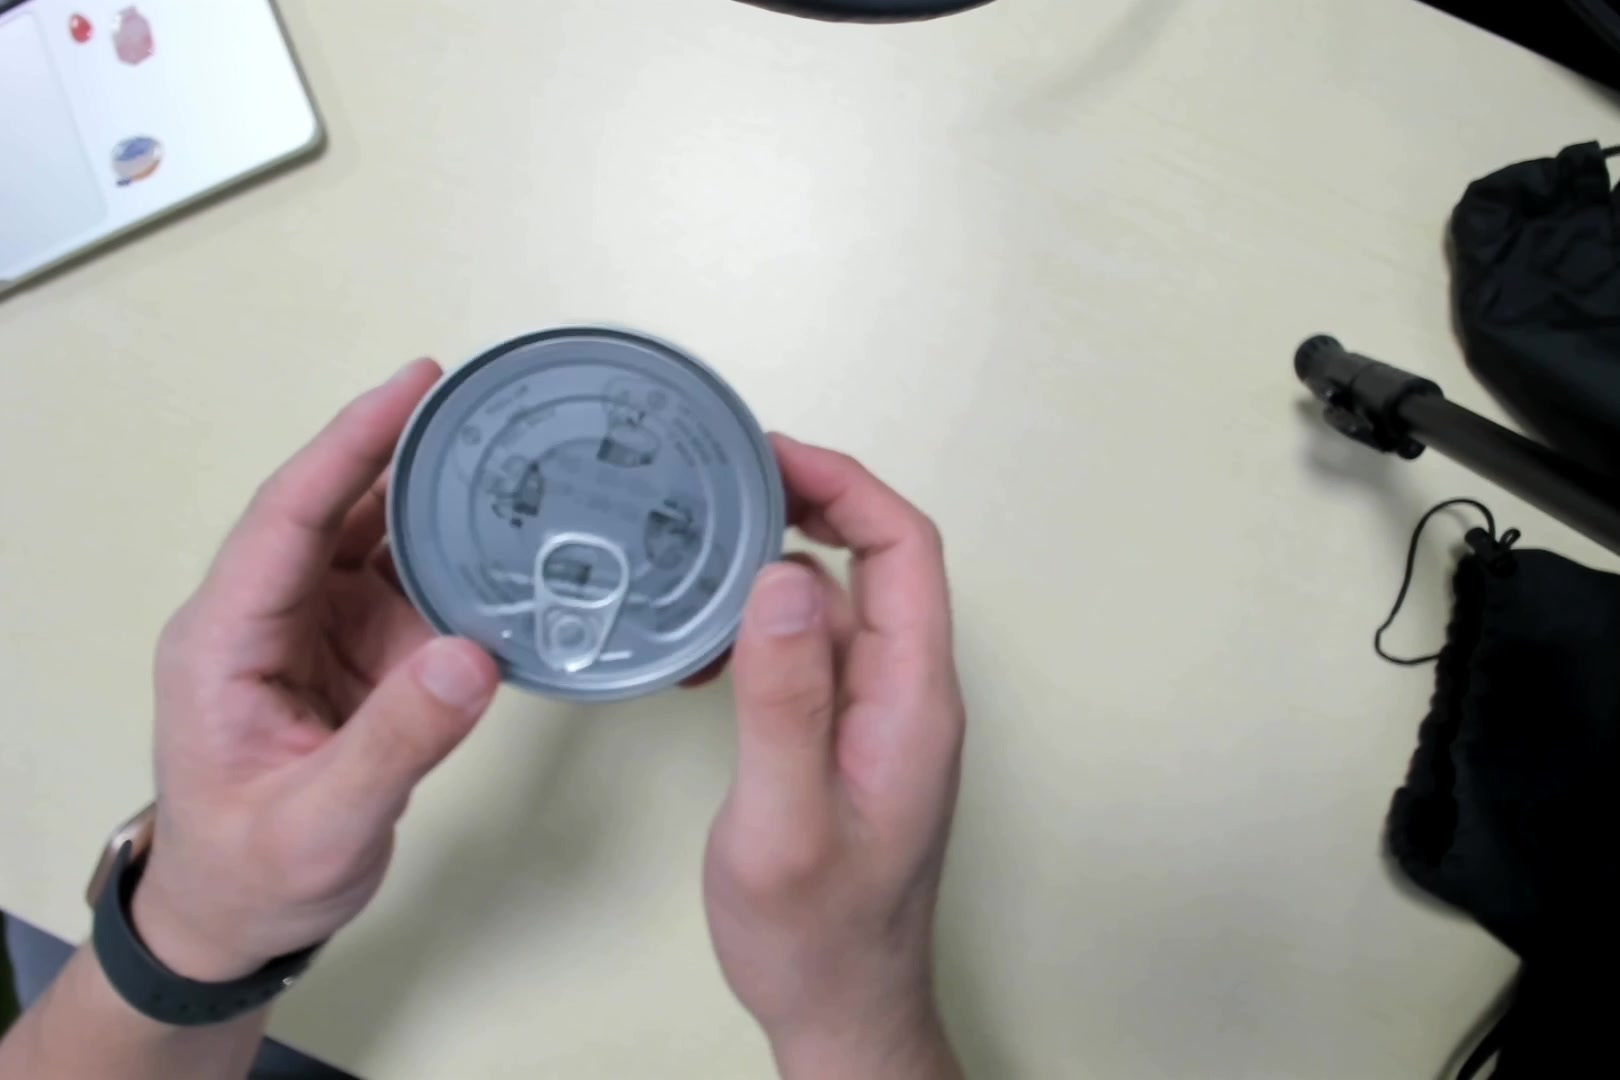CannedPorkLunchronMeat_100-199g_NonHalal_NonHealthy: (405, 321, 769, 697)
